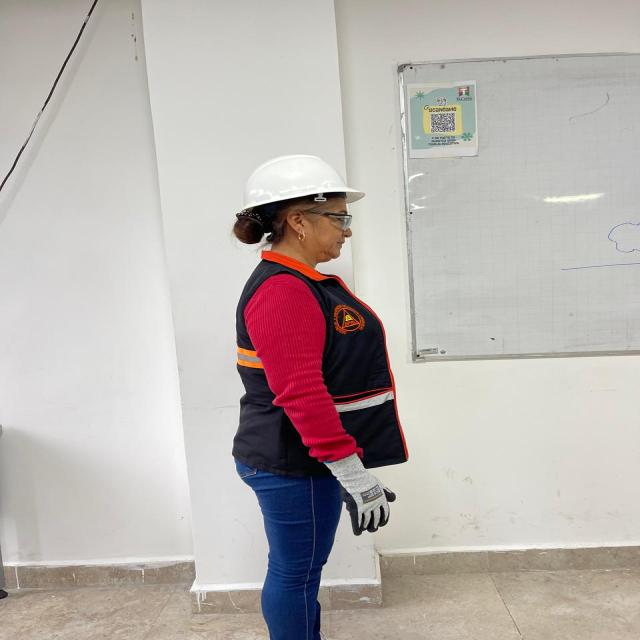gloves: (323, 452, 400, 536)
helmet: (241, 154, 366, 211)
protective_glasses: (298, 208, 358, 235)
